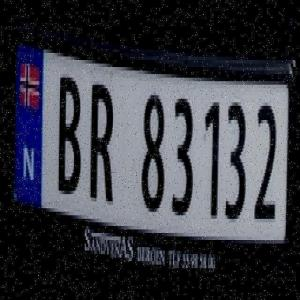Plate: (7, 11, 291, 265)
